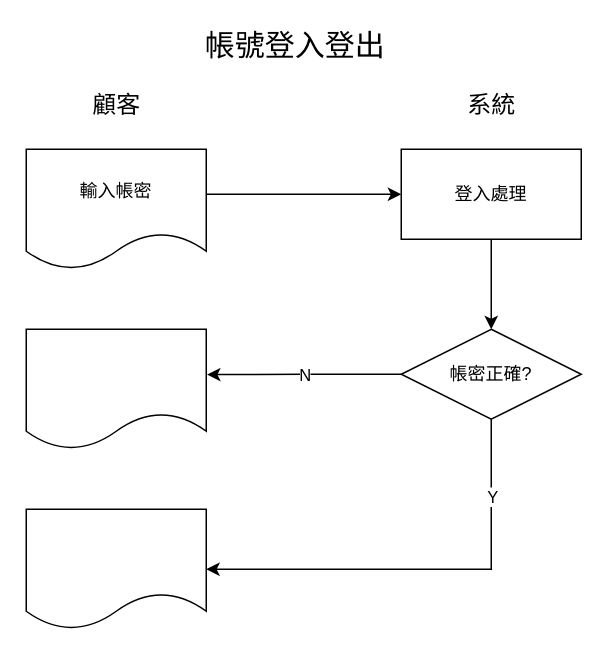
The diagram is 608 pixels wide and 656 high, and some of its shapes have lost their labels. The box of each missing label's shape, as (x1, y1, x2, y2) in pixels:
登入成功: (25, 508, 206, 629)
重新輸入帳密: (25, 328, 206, 449)
